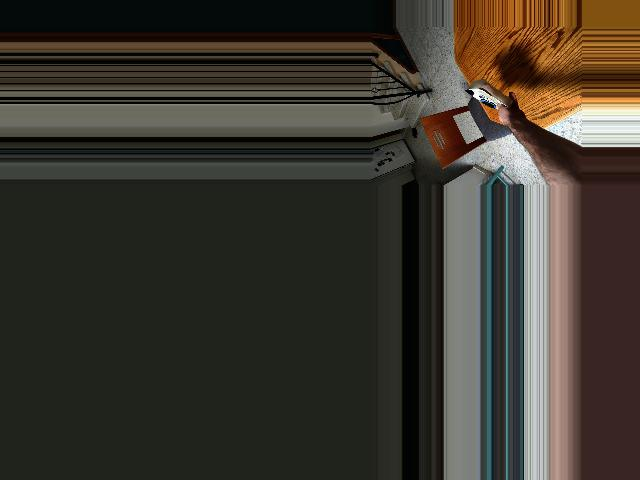cheese: (464, 78, 513, 112)
